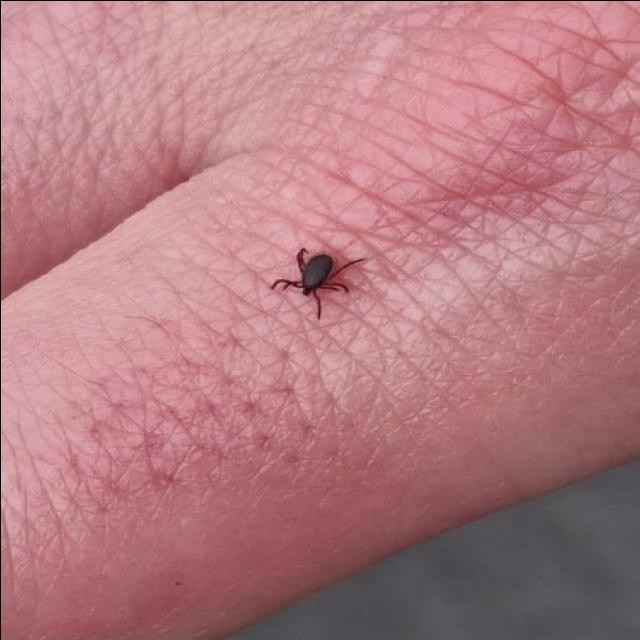Ixodes Ricinus-M: (271, 248, 365, 319)
